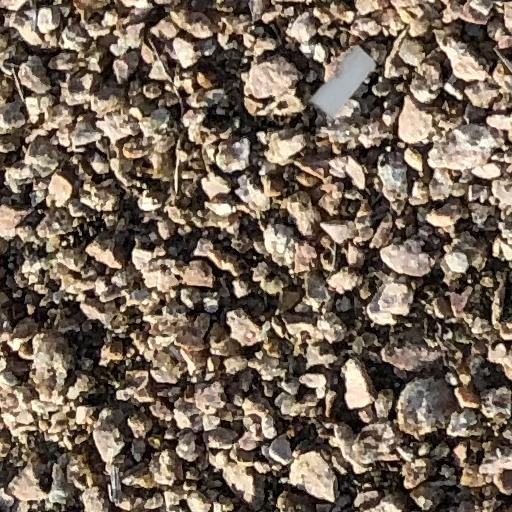smoke: (310, 47, 375, 117)
